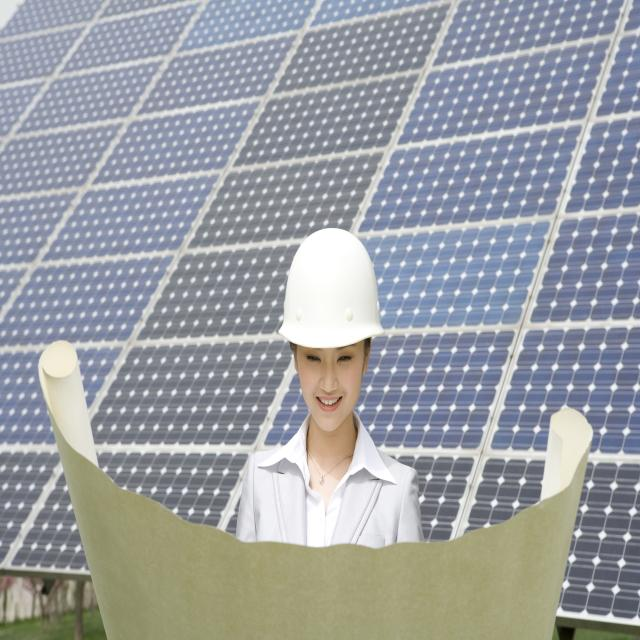clean-solar-panel: (0, 0, 640, 628)
